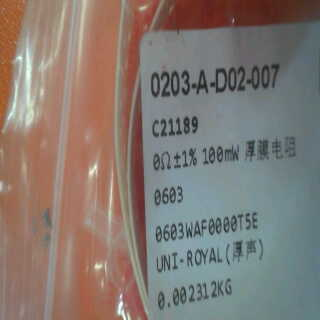0R: (149, 144, 201, 208)
